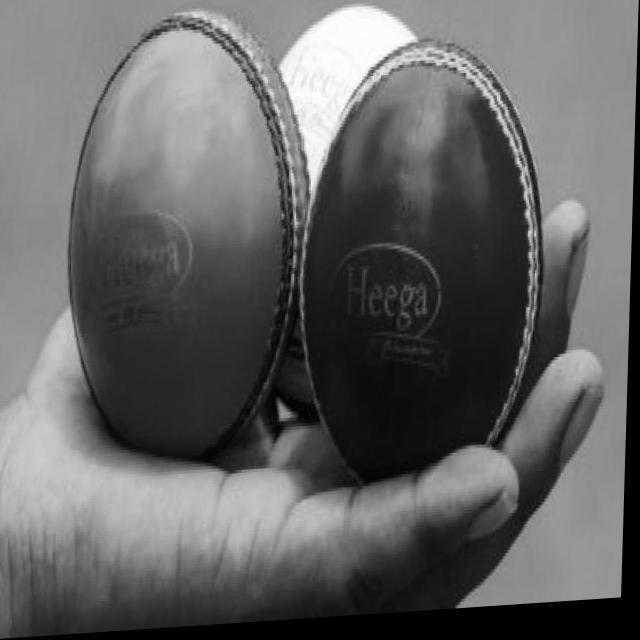cricket ball: (69, 11, 311, 464), (302, 44, 546, 488)
